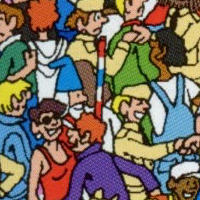wb: (49, 55, 88, 114)
